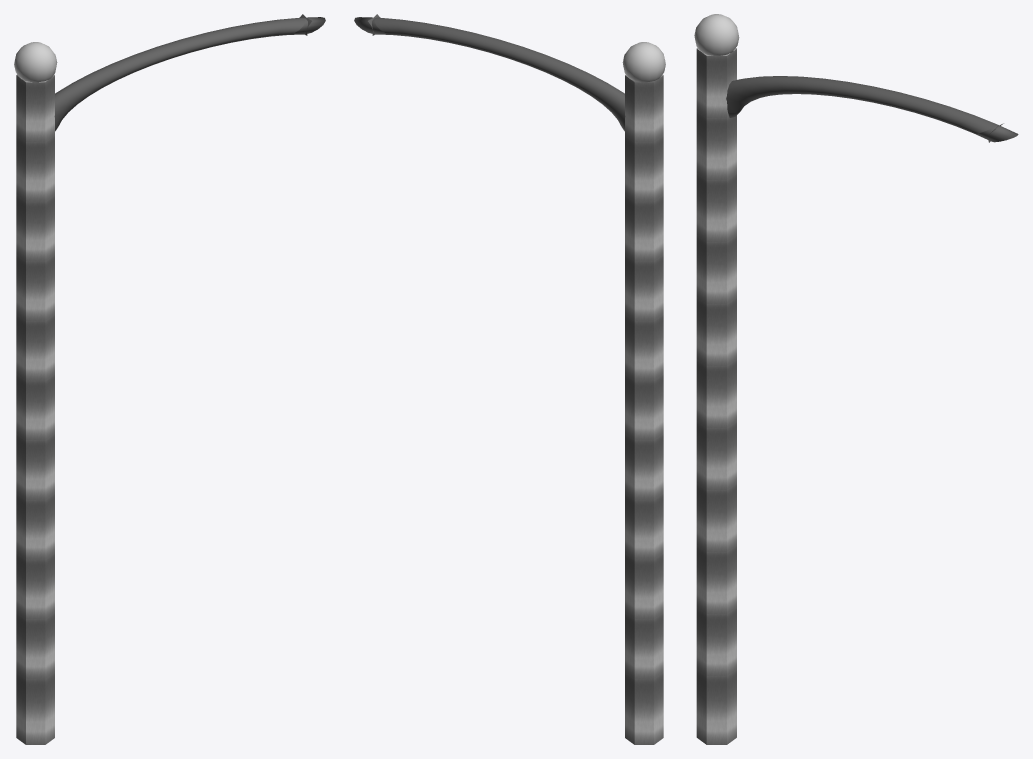
The model's file is street_lamp_post.obj.
The picture shows the model from 3 angles, left to right: view 1: azimuth 30°, elevation 25°; view 2: azimuth 150°, elevation 25°; view 3: azimuth 330°, elevation 25°; orthographic projection. The views are drawn at different scales.
Visible parts, largest first — view 1: Sphere_Sphere.001; view 2: Sphere_Sphere.001; view 3: Sphere_Sphere.001.
Boxes of the visible parts, box(x1,y1,x2,y2) form: Sphere_Sphere.001: box(14, 14, 325, 744); Sphere_Sphere.001: box(354, 14, 665, 744); Sphere_Sphere.001: box(694, 14, 1018, 744).
Size of the model in its own units: 6.75 by 14.53 by 0.8257.
